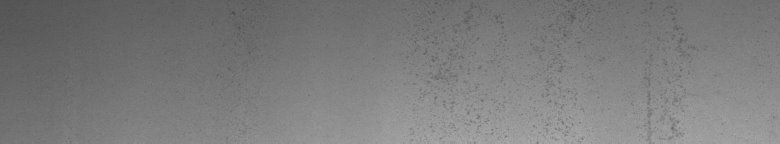ib: (415, 9, 582, 136)
